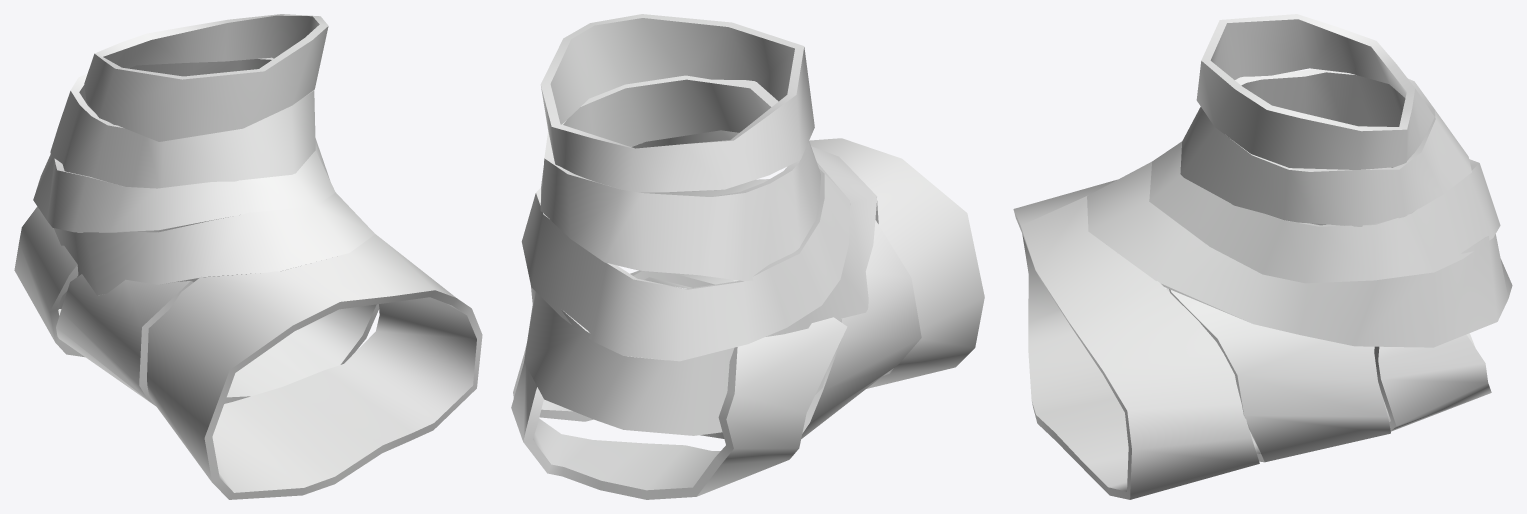
The model's file is Gauze.FBX.
The picture shows the model from 3 angles, left to right: view 1: azimuth 30°, elevation 25°; view 2: azimuth 150°, elevation 25°; view 3: azimuth 270°, elevation 25°; orthographic projection. The views are drawn at different scales.
Parts seen in each view (by area): view 1: 312; view 2: 312; view 3: 312.
Boxes of the visible parts, x1,y1,x2,y2 form: 312: [14, 14, 482, 499]; 312: [511, 14, 984, 499]; 312: [1013, 14, 1512, 499].
Bounding box in the file's own units: 42.86 × 44.32 × 53.34.
